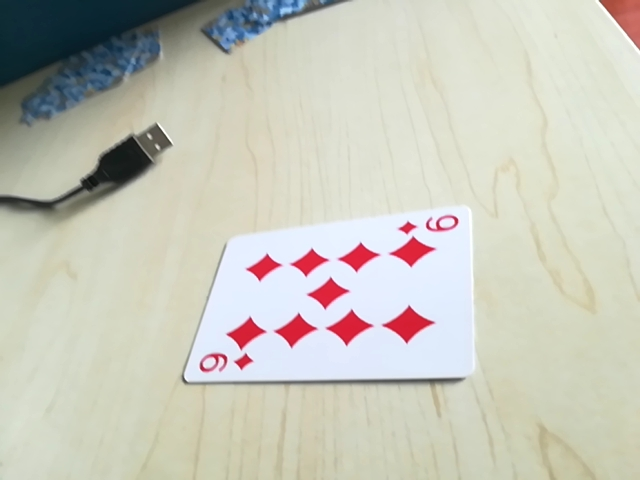fk 9: (396, 210, 464, 241), (195, 348, 258, 380)
